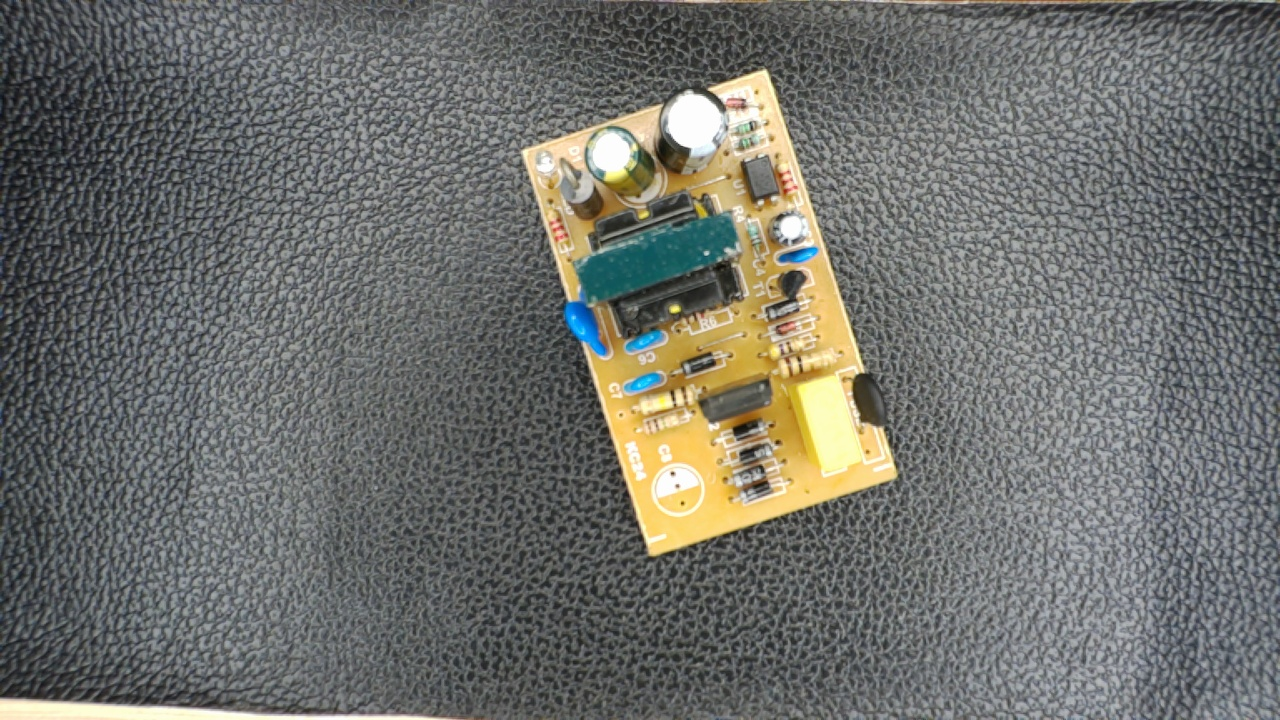fuse: (839, 366, 888, 443)
mov: (561, 281, 612, 366)
optocoupler: (743, 147, 785, 213)
